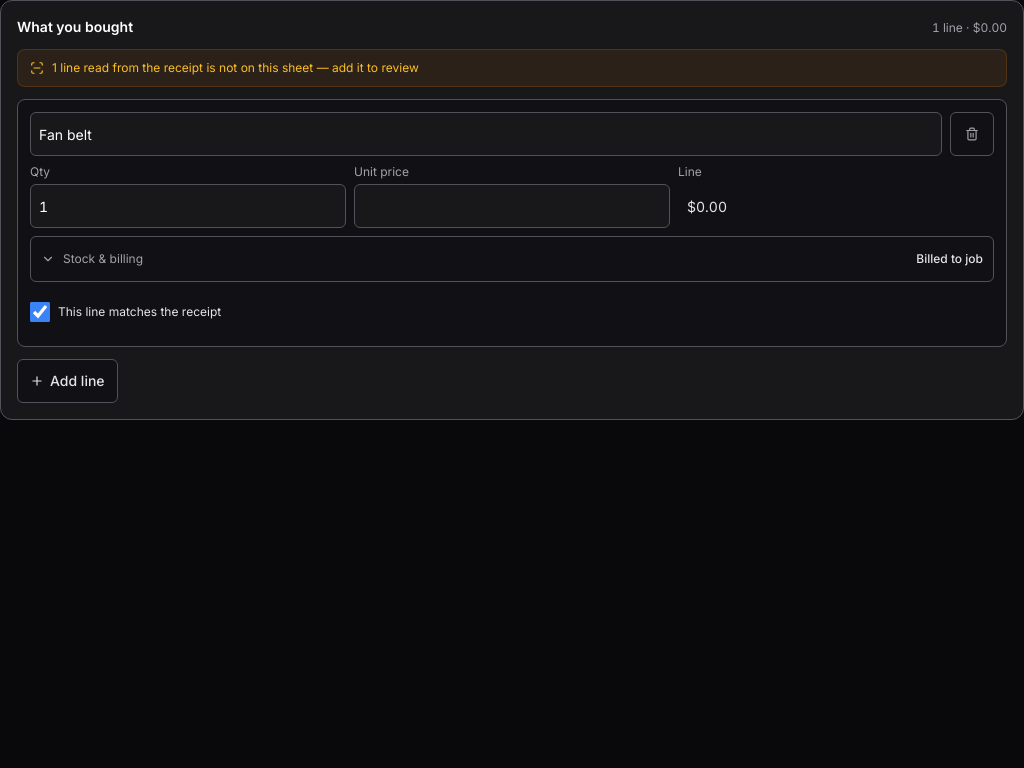
it: an extraction the purchase never applied › every added line arrives unconfirmed, so submit stays blocked
Click the button "read from the receipt". click: (120, 68)
box: [17,49,1007,87]
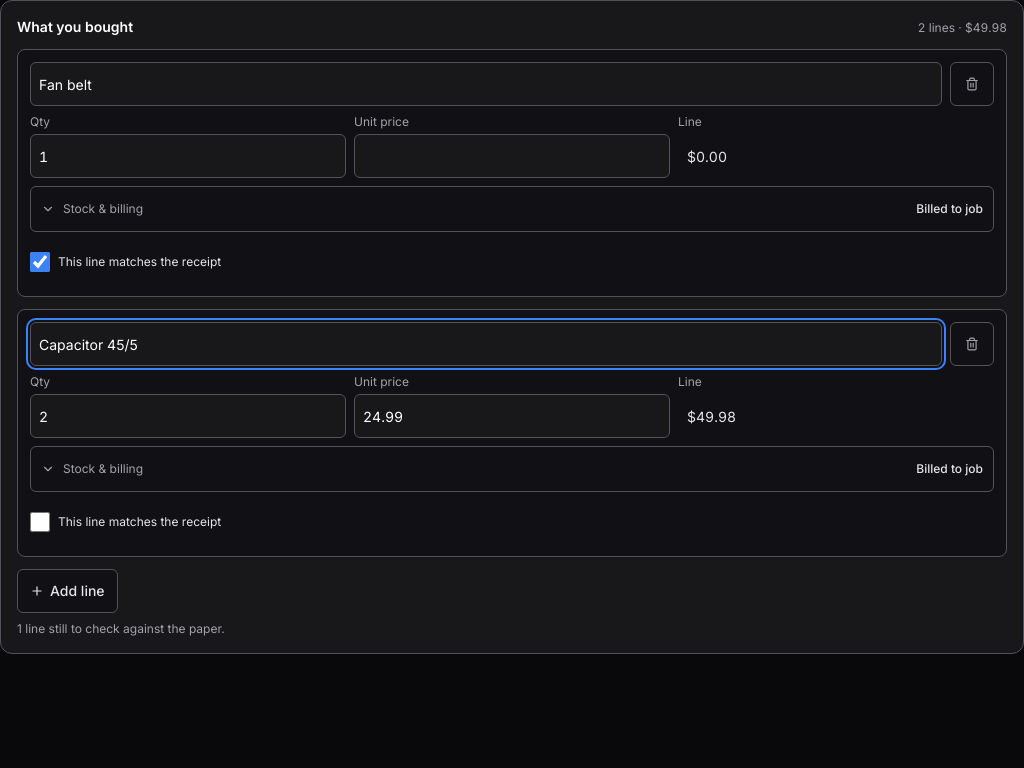
Expected: the text "1 line still to check against the paper." is shown, [17,621,225,636]
